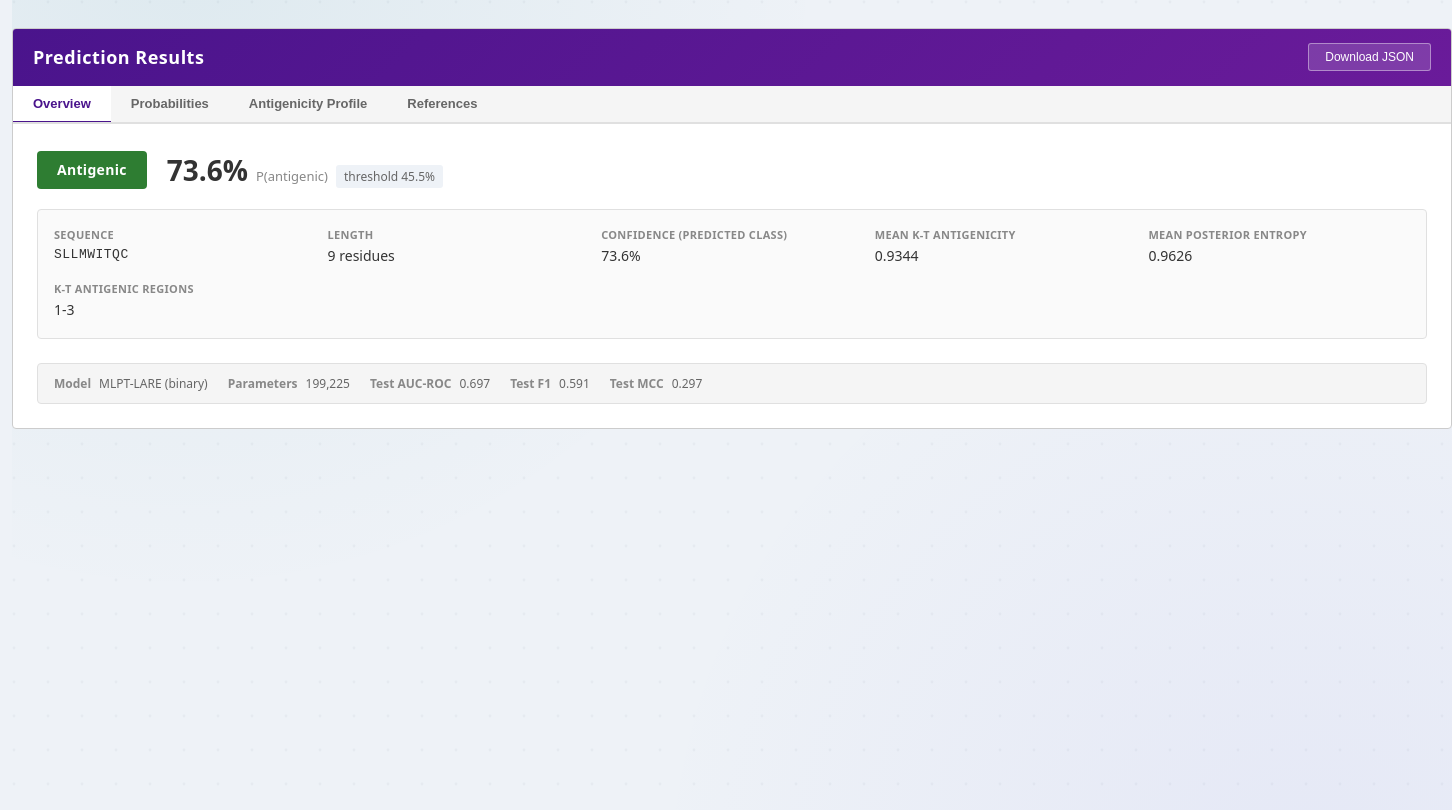
Test: AntigenicResults (binary MLPT-LARE) › switches to the References tab with MLPT-LARE reference
Click the button "References". click: (442, 105)
box: [387,86,497,124]
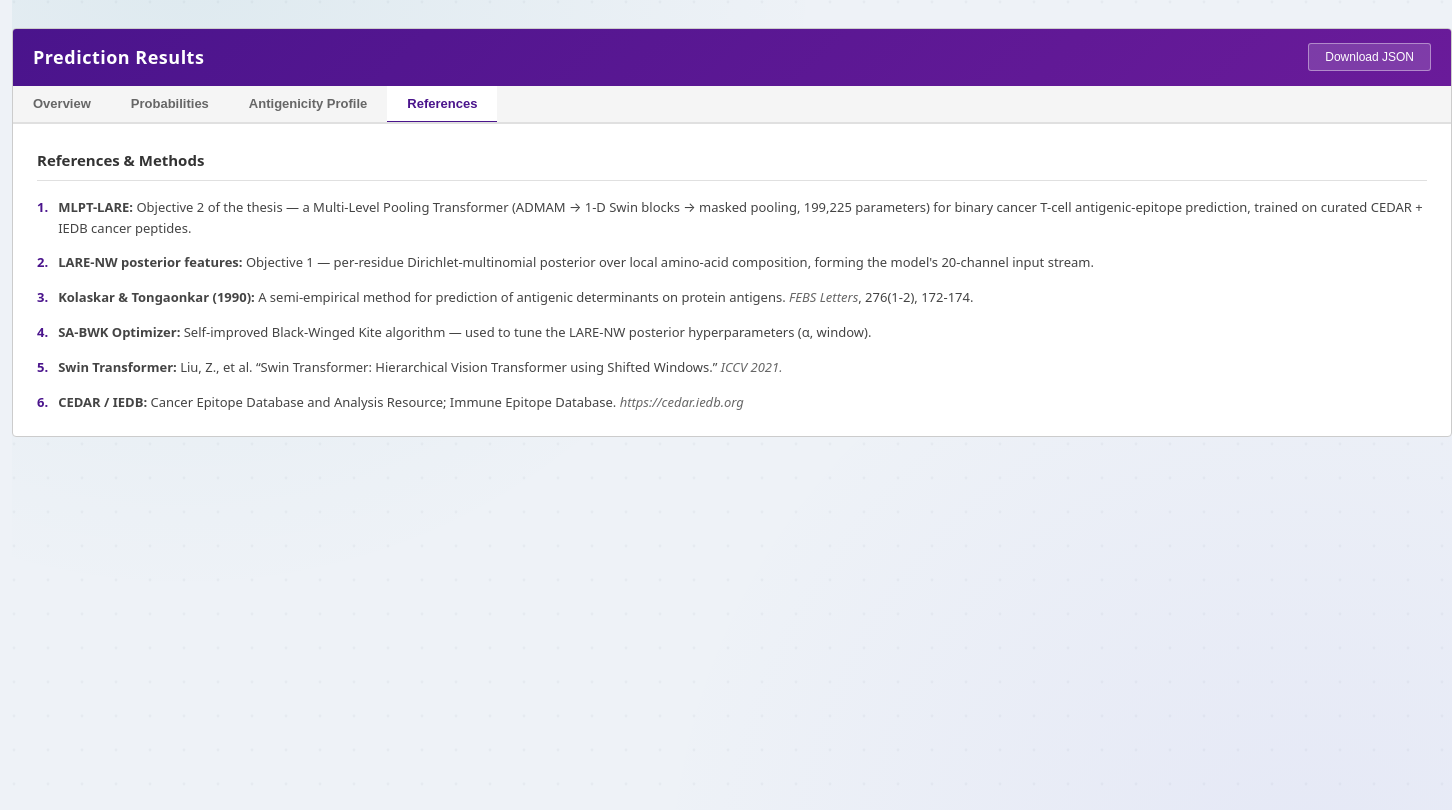
Check: the heading "References & Methods" is shown, box [37,148,1427,181]
Check: the text "MLPT-LARE:" is shown, box [58,198,133,216]
